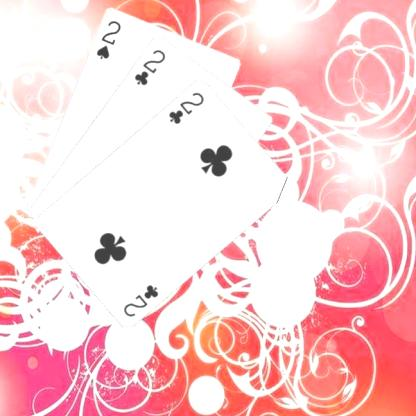2C: (166, 88, 206, 126), (120, 281, 161, 318), (131, 46, 167, 86)
2S: (93, 17, 123, 61)
